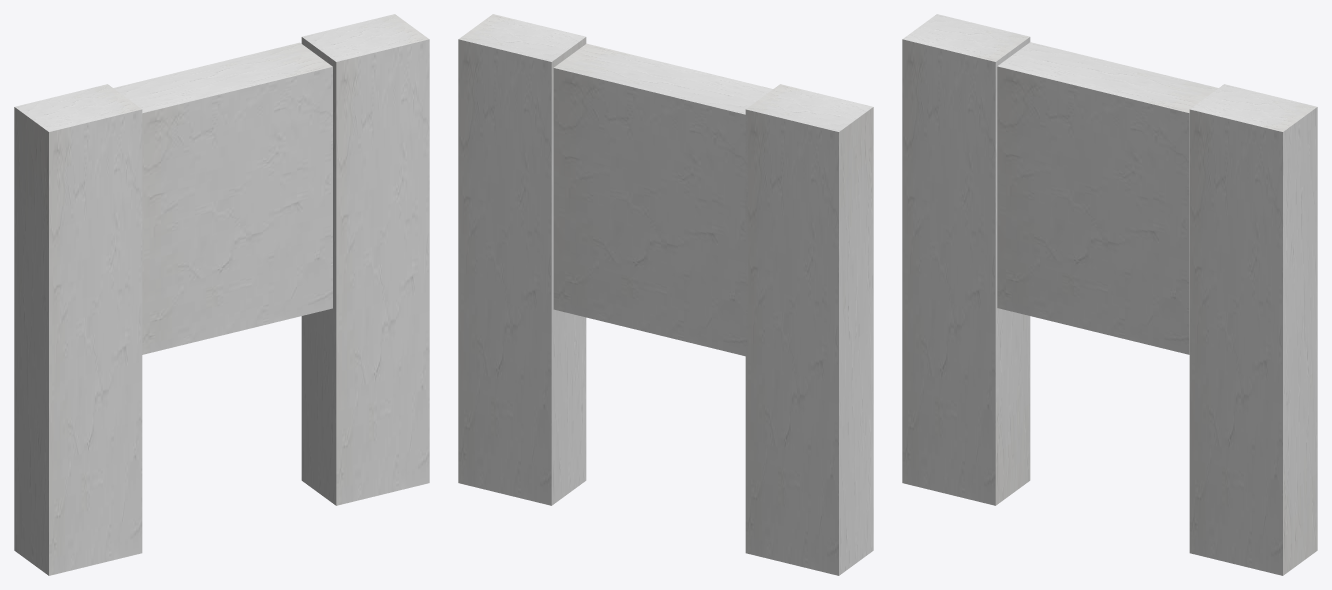
File: slipWallComb.fbx
The picture shows the model from 3 angles, left to right: view 1: azimuth 30°, elevation 25°; view 2: azimuth 150°, elevation 25°; view 3: azimuth 330°, elevation 25°; orthographic projection.
Visible parts, largest first — view 1: Box002, Box004, Box003; view 2: Box002, Box004, Box003; view 3: Box003, Box004, Box002.
Part boxes in pixels (x1=…): Box002: x1=14, y1=84, x2=142, y2=575; Box004: x1=113, y1=42, x2=332, y2=354; Box003: x1=301, y1=14, x2=429, y2=505; Box002: x1=745, y1=84, x2=873, y2=575; Box004: x1=553, y1=43, x2=772, y2=356; Box003: x1=458, y1=14, x2=586, y2=505; Box003: x1=1189, y1=84, x2=1317, y2=575; Box004: x1=997, y1=42, x2=1218, y2=354; Box002: x1=902, y1=14, x2=1030, y2=505.
Size of the model in its own units: 177 by 197 by 27.81.
1 material, 1 textured.
